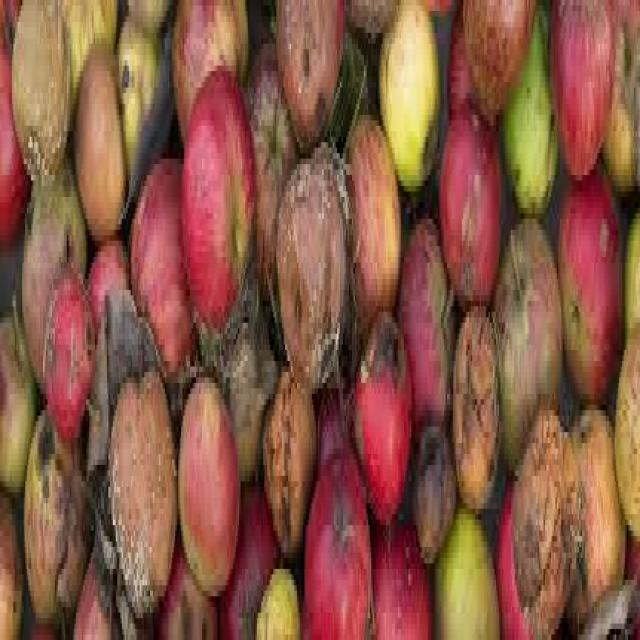food_waste: (19, 40, 619, 543)
